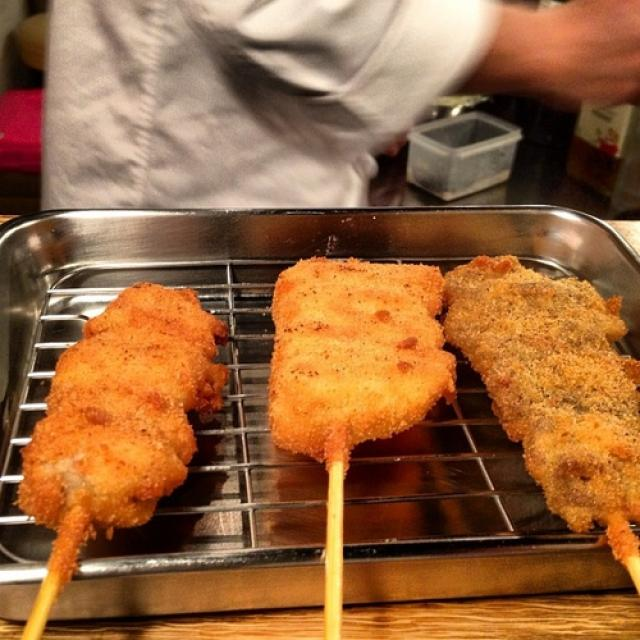汉堡快餐: (6, 15, 638, 616)
